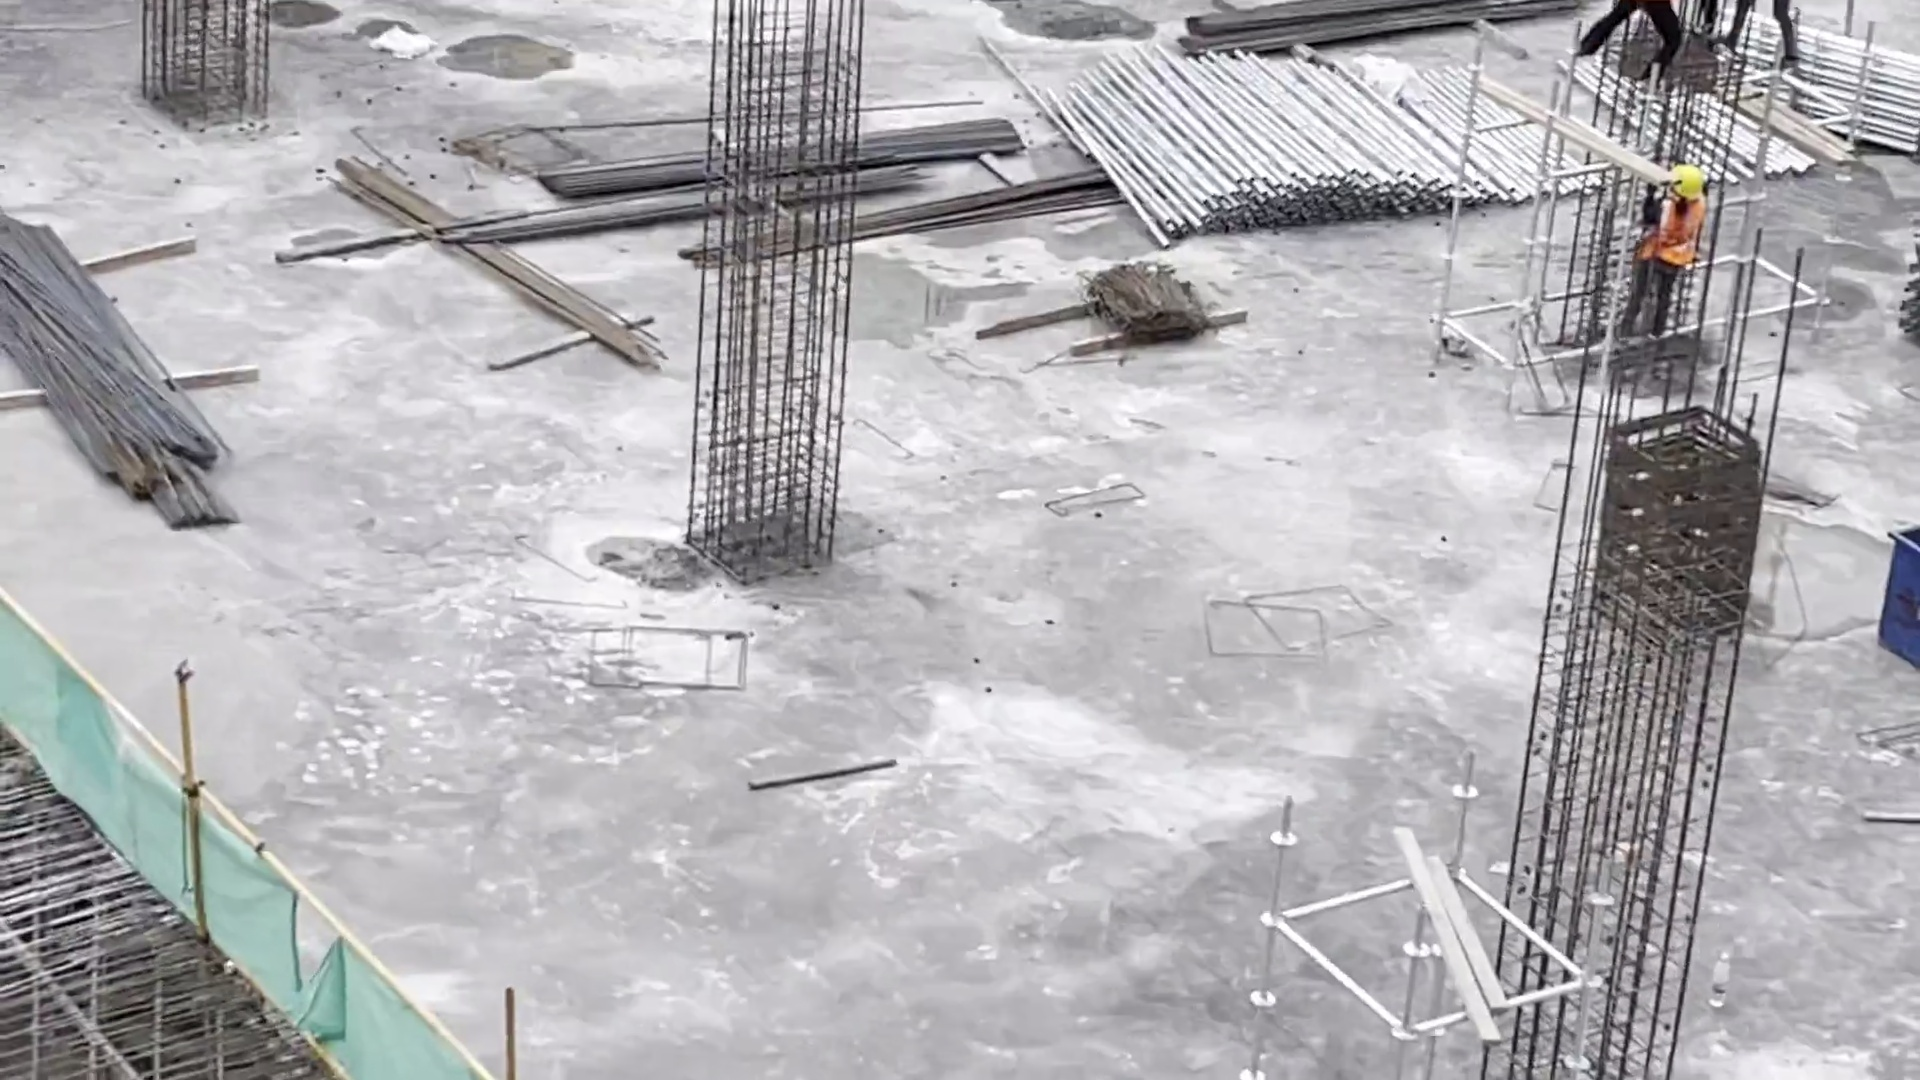helmet: (1669, 163, 1706, 195)
hopper: (1873, 497, 1920, 686)
person: (1621, 164, 1707, 337), (1571, 1, 1681, 82), (1723, 1, 1817, 78)
rebar: (1, 189, 242, 531), (445, 172, 911, 254), (548, 116, 1024, 197), (693, 180, 1115, 260), (1184, 1, 1555, 60)
scaffold: (1032, 44, 1603, 241), (1696, 37, 1920, 165)
vest: (1651, 195, 1703, 271)
